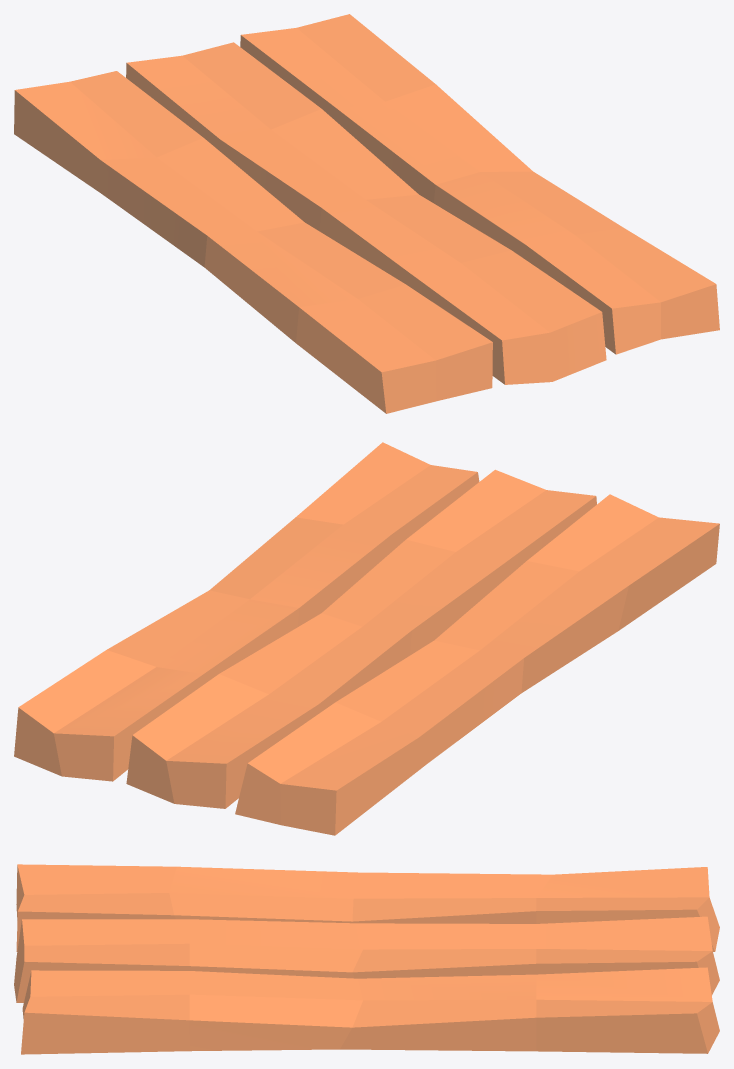
File: PlatformS_Wood1.fbx
The picture shows the model from 3 angles, top to bottom: view 1: azimuth 30°, elevation 25°; view 2: azimuth 150°, elevation 25°; view 3: azimuth 270°, elevation 25°; orthographic projection. The views are drawn at different scales.
Parts seen in each view (by area): view 1: WoodPlank5, WoodPlank4, WoodPlank6; view 2: WoodPlank5, WoodPlank4, WoodPlank6; view 3: WoodPlank6, WoodPlank4, WoodPlank5.
Boxes of the visible parts, box(x1,y1,x2,y2) form: WoodPlank5: box(14, 71, 492, 413); WoodPlank4: box(126, 42, 606, 384); WoodPlank6: box(240, 14, 719, 354); WoodPlank5: box(235, 494, 719, 835); WoodPlank4: box(126, 469, 596, 808); WoodPlank6: box(14, 442, 479, 781); WoodPlank6: box(21, 967, 719, 1054); WoodPlank4: box(14, 916, 719, 1002); WoodPlank5: box(16, 864, 719, 951).
Size of the model in its own units: 664 by 97.58 by 1307.
